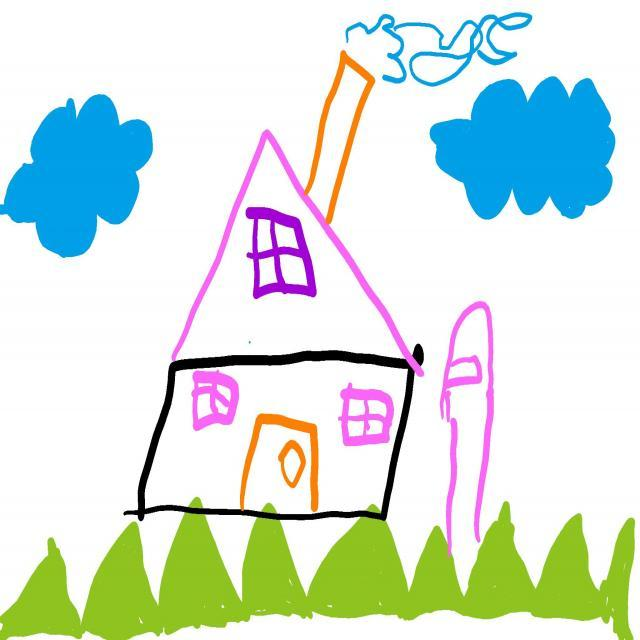chimney: (305, 50, 376, 224)
door: (240, 414, 319, 514)
house: (139, 52, 423, 520)
roof: (176, 141, 403, 360)
wall: (137, 351, 415, 520)
window: (246, 207, 317, 298), (339, 384, 395, 446), (193, 371, 239, 432)
